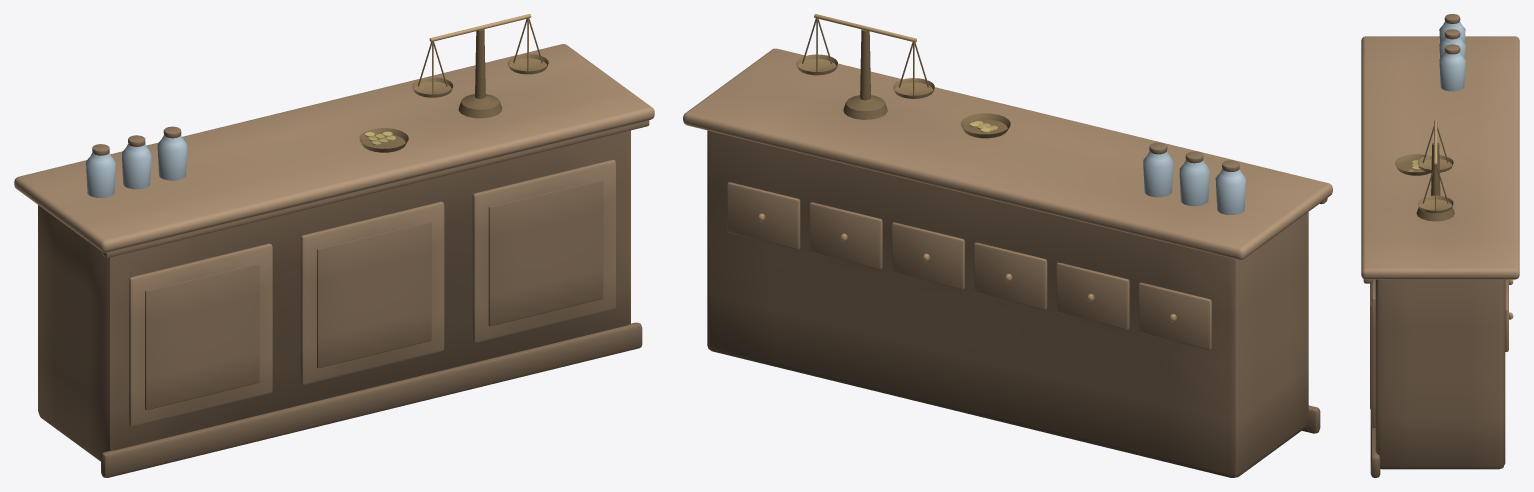
The model's file is obj_kit_counter.glb.
3 renders of one model, left to right at view 1: azimuth 30°, elevation 25°; view 2: azimuth 150°, elevation 25°; view 3: azimuth 270°, elevation 25°, orthographic. The views are drawn at different scales.
Visible parts, largest first — view 1: Cube, Cube.008, Cube.007, Cube.006, Cube.002, Cube.004, Cube.003, Cube.005, Cube.001, Cube.009, scalebase, jar.002 (+5 smaller); view 2: Cube, Cube.008, Cube.014, Cube.015, Cube.012, Cube.011, Cube.013, Cube.010, scalebase, jar.001, jar.002, jar (+3 smaller); view 3: Cube.008, Cube, jar.002, Cube.005, scalebase, pan.001, dish, Cube.007, pan, jar, jar.001, Cube.015 (+1 smaller).
Part boxes in pixels (<box>): Cube: <box>38,130,630,461</box>; Cube.008: <box>14,44,654,252</box>; Cube.007: <box>101,322,642,477</box>; Cube.006: <box>488,179,603,326</box>; Cube.002: <box>145,263,259,409</box>; Cube.004: <box>317,221,431,368</box>; Cube.003: <box>300,201,444,384</box>; Cube.005: <box>472,160,615,342</box>; Cube.001: <box>129,243,272,426</box>; Cube.009: <box>102,120,649,257</box>; scalebase: <box>458,29,501,118</box>; jar.002: <box>157,135,187,180</box>; Cube: <box>707,130,1308,477</box>; Cube.008: <box>683,48,1332,260</box>; Cube.014: <box>809,202,882,269</box>; Cube.015: <box>727,182,800,249</box>; Cube.012: <box>974,242,1047,309</box>; Cube.011: <box>1056,262,1129,329</box>; Cube.013: <box>891,222,964,289</box>; Cube.010: <box>1138,282,1211,349</box>; scalebase: <box>843,29,887,119</box>; jar.001: <box>1179,160,1209,206</box>; jar.002: <box>1143,151,1173,197</box>; jar: <box>1215,169,1245,214</box>; Cube.008: <box>1361,36,1519,279</box>; Cube: <box>1375,279,1505,469</box>; jar.002: <box>1439,52,1465,91</box>; Cube.005: <box>1371,279,1375,427</box>; scalebase: <box>1416,142,1454,221</box>; pan.001: <box>1417,195,1453,213</box>; dish: <box>1395,154,1430,175</box>; Cube.007: <box>1370,409,1380,477</box>; pan: <box>1417,155,1453,172</box>; jar: <box>1439,21,1465,42</box>; jar.001: <box>1439,36,1465,58</box>; Cube.015: <box>1505,280,1508,351</box>.
Size of the model in its own units: 2.32 by 1.31 by 0.66.
